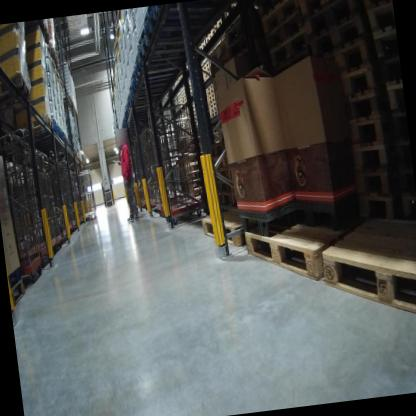pallet: (240, 189, 368, 290), (317, 214, 416, 334), (140, 0, 221, 49), (199, 194, 271, 249), (134, 28, 222, 61), (252, 12, 309, 62), (306, 14, 367, 58), (297, 0, 363, 37), (340, 190, 401, 230), (351, 166, 400, 207), (331, 67, 384, 104), (252, 0, 303, 37), (0, 71, 36, 116), (128, 69, 187, 96), (344, 114, 392, 147), (132, 55, 181, 85), (5, 110, 55, 139), (362, 0, 395, 42), (353, 140, 393, 172), (341, 90, 382, 119), (128, 82, 175, 107), (288, 0, 355, 17), (367, 28, 399, 61), (328, 46, 370, 71), (381, 57, 401, 88), (9, 279, 28, 310), (384, 85, 404, 109), (361, 0, 393, 11), (61, 94, 74, 107), (52, 46, 60, 63), (204, 80, 213, 92), (202, 66, 211, 77), (200, 60, 209, 70), (202, 72, 212, 81), (207, 92, 216, 101), (208, 101, 217, 110), (210, 108, 218, 117), (206, 87, 213, 97), (208, 96, 216, 104), (210, 104, 217, 112)
